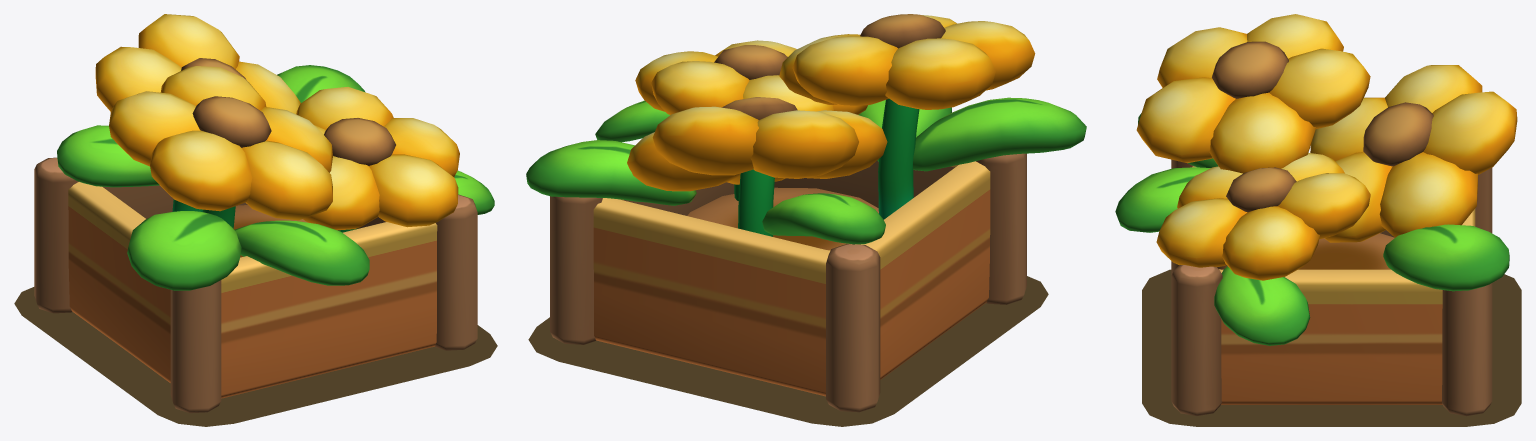
Rendered from Flower02Y_L03.fbx.
3 renders of one model, left to right at view 1: azimuth 30°, elevation 25°; view 2: azimuth 150°, elevation 25°; view 3: azimuth 270°, elevation 25°, orthographic. The views are drawn at different scales.
Parts seen in each view (by area): view 1: Flower02YL03_Body, Flower02YL3_Box, Flower02YL3_SDW; view 2: Flower02YL3_Box, Flower02YL03_Body, Flower02YL3_SDW; view 3: Flower02YL03_Body, Flower02YL3_Box, Flower02YL3_SDW.
Boxes of the visible parts, x1=… form: Flower02YL03_Body: x1=57, y1=14, x2=494, y2=290; Flower02YL3_Box: x1=34, y1=157, x2=477, y2=413; Flower02YL3_SDW: x1=14, y1=287, x2=497, y2=426; Flower02YL3_Box: x1=550, y1=153, x2=1026, y2=412; Flower02YL03_Body: x1=526, y1=14, x2=1086, y2=250; Flower02YL3_SDW: x1=528, y1=276, x2=1048, y2=426; Flower02YL03_Body: x1=1115, y1=14, x2=1517, y2=345; Flower02YL3_Box: x1=1171, y1=159, x2=1492, y2=416; Flower02YL3_SDW: x1=1142, y1=269, x2=1521, y2=426.
Bounding box in the file's own units: 141 × 90.96 × 126.
Materials: 3 (2 with a texture image).
